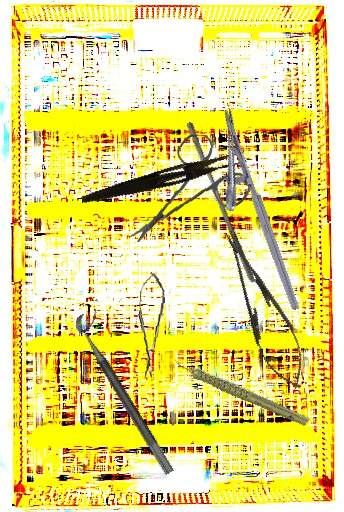Dressing Forceps: (79, 144, 248, 213)
Fixation Ring: (71, 306, 188, 477)
Handpiece: (172, 330, 311, 451)
Iris Scissors: (129, 130, 254, 250)
Micro Scissor: (132, 271, 168, 380)
Needle Holder: (195, 107, 301, 321), (209, 223, 318, 396)
Pusher: (180, 121, 262, 284)
